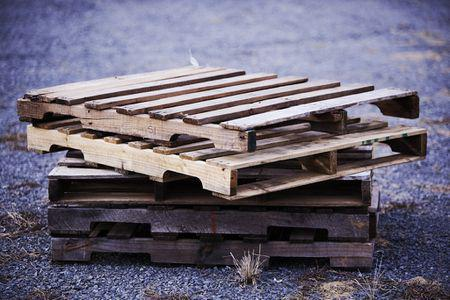wood: (15, 61, 428, 277)
